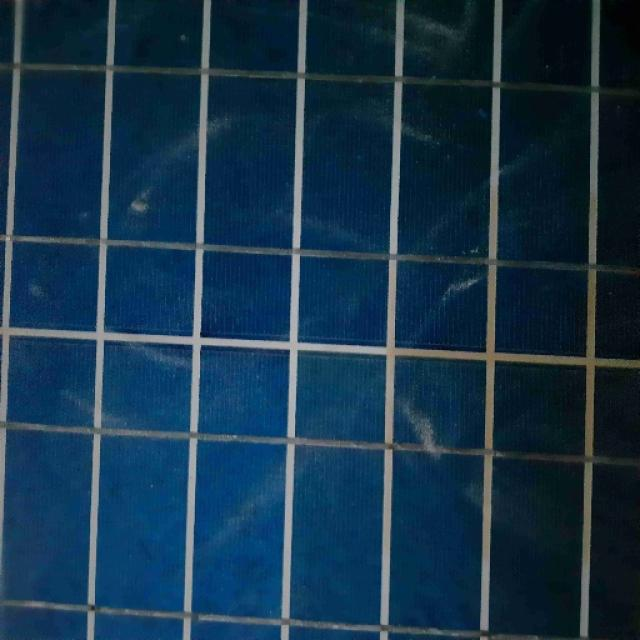Dirty: (3, 88, 640, 640)
